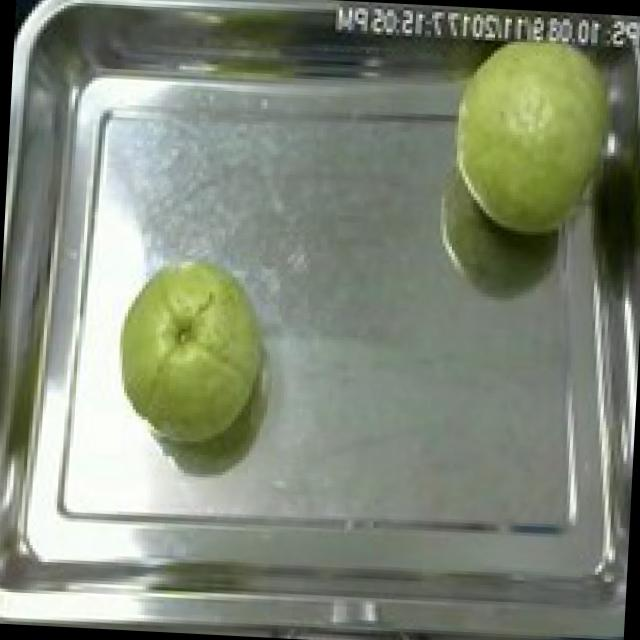Fruit: (433, 6, 640, 257), (102, 245, 278, 456)
